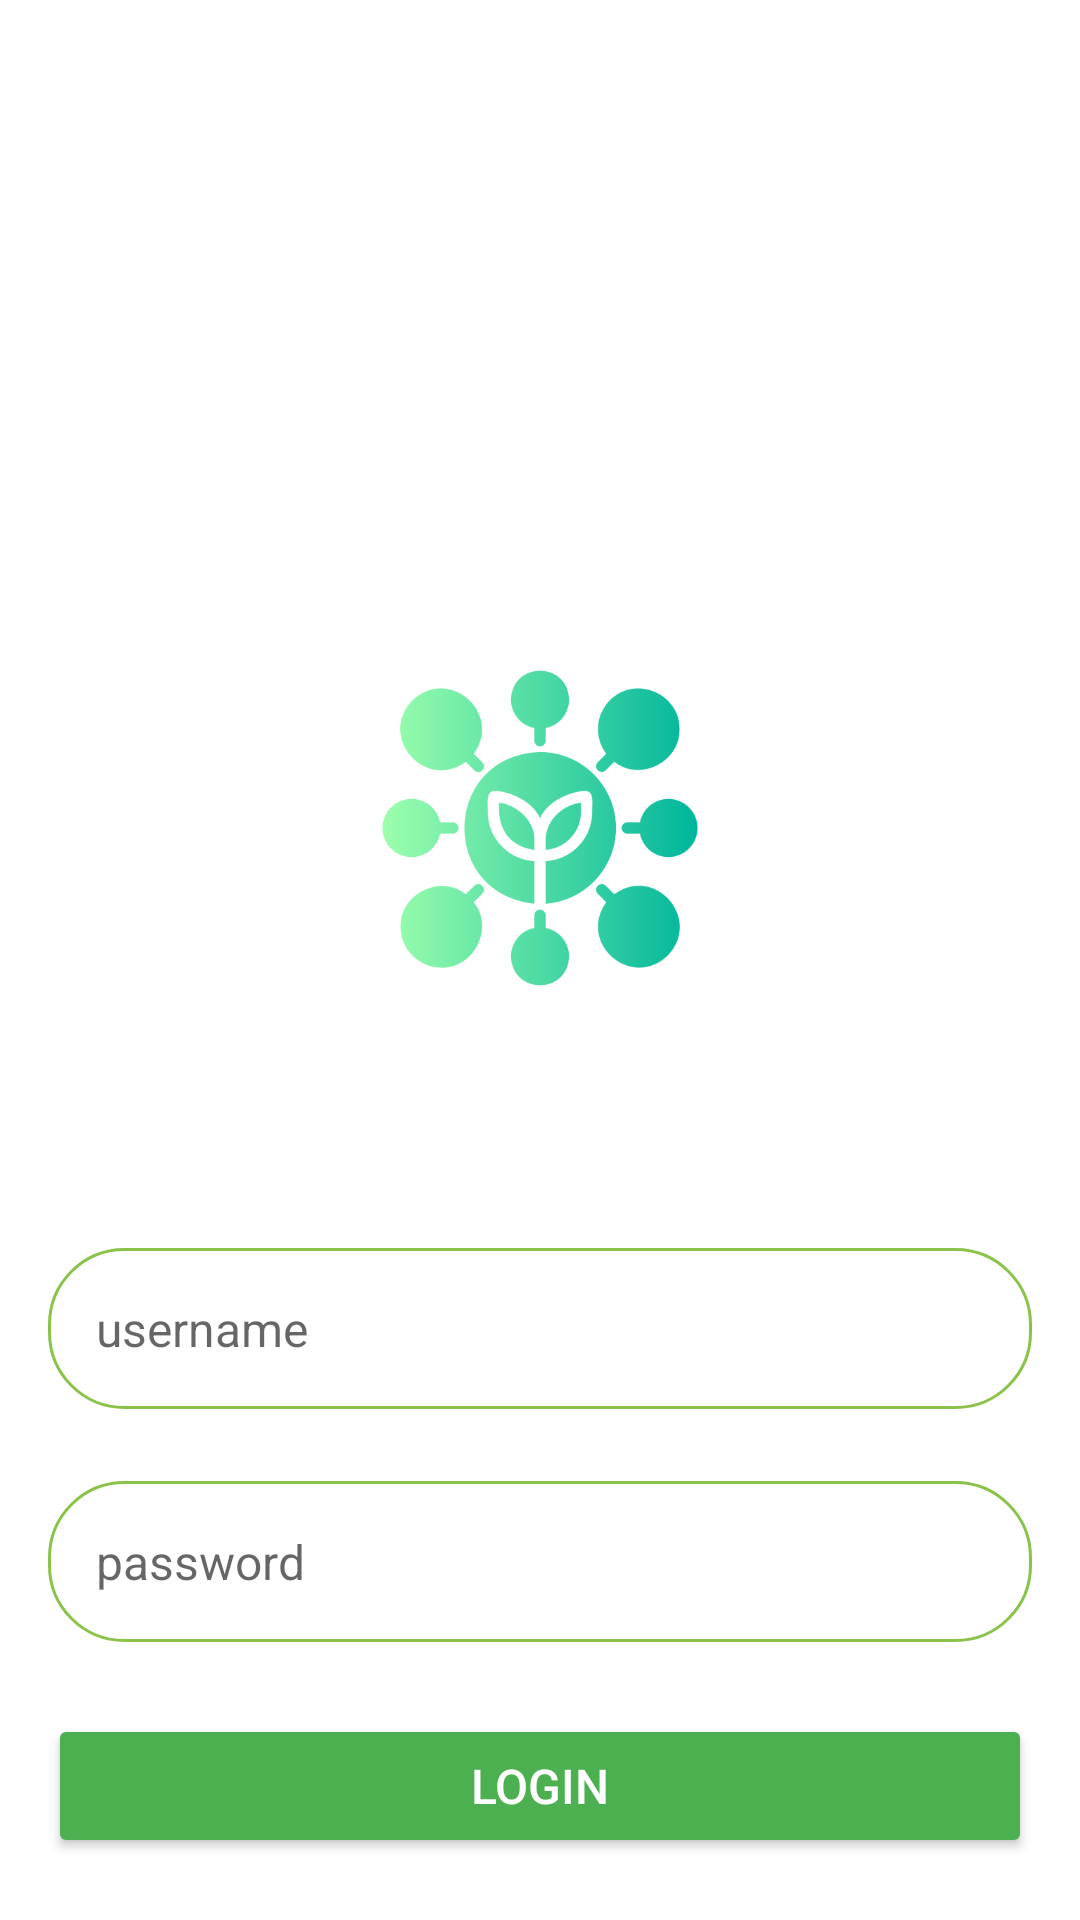

Where icons sit on this 1080px×1920px app screen, as [x1, y1, x2, y2]:
smartfarm: [382, 670, 698, 986]
